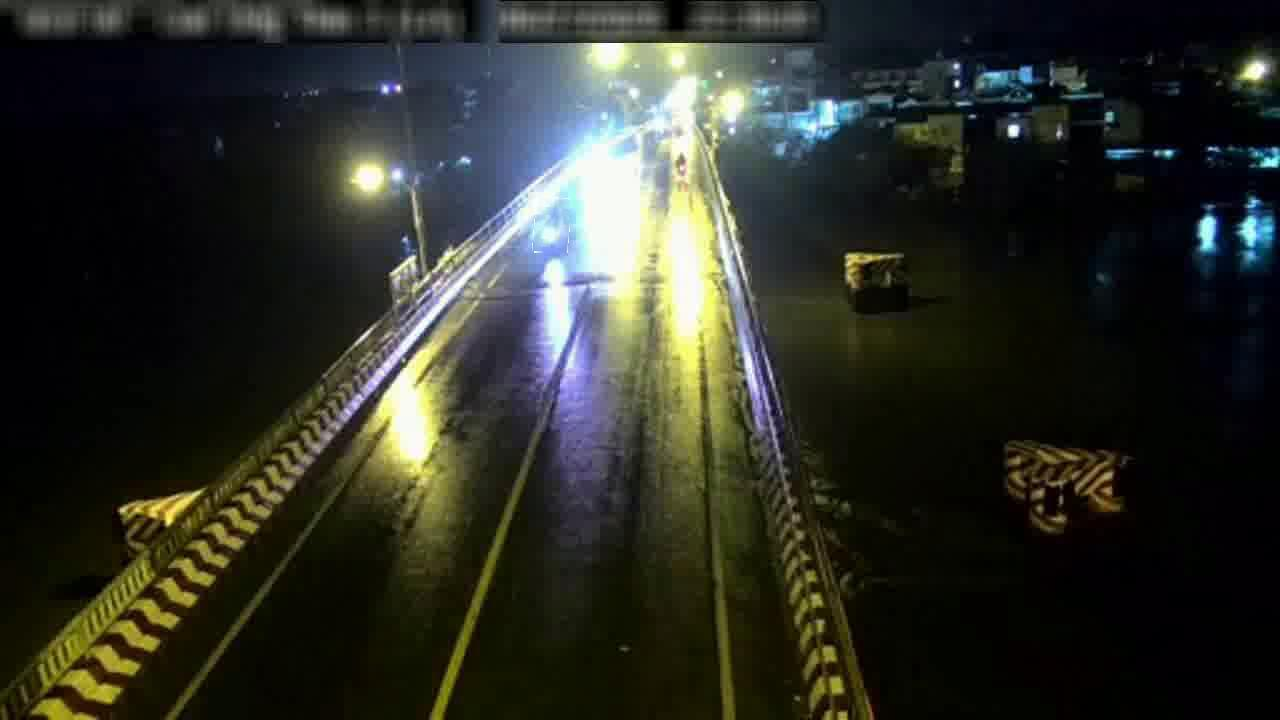motorbike: (533, 198, 570, 254)
